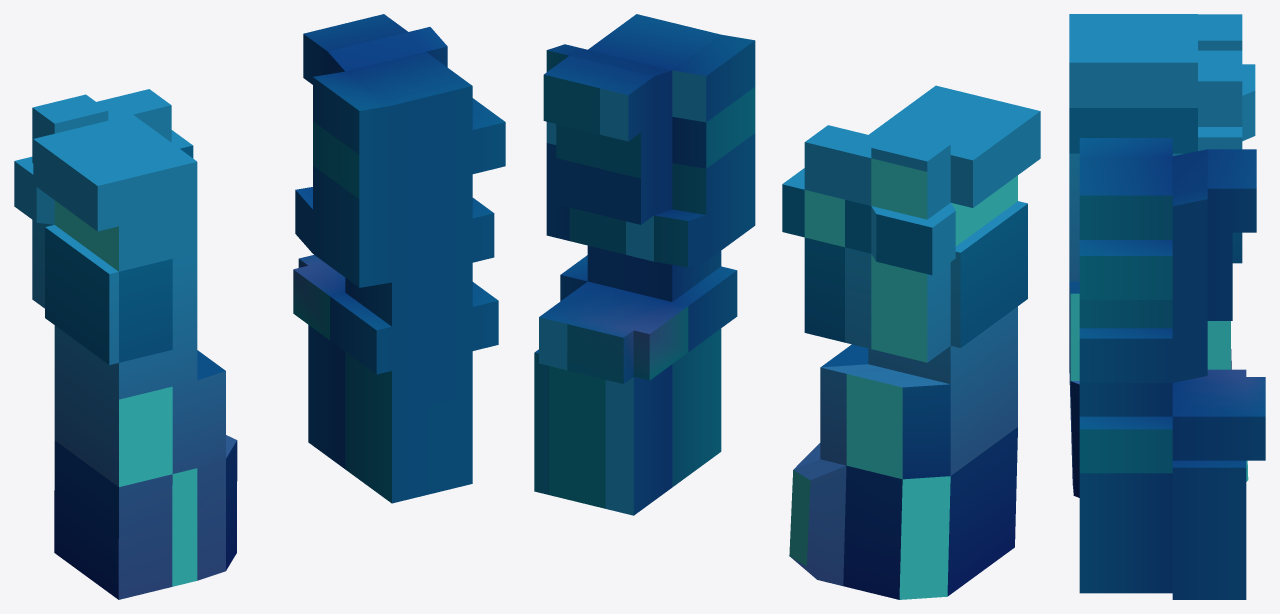
File: синий угол.fbx
3 views of the same model, side by side, from view 1: azimuth 30°, elevation 25°; view 2: azimuth 150°, elevation 25°; view 3: azimuth 270°, elevation 25° (orthographic). The views are drawn at different scales.
Visible parts, largest first — view 1: Cube.004, Cube.003; view 2: Cube.004, Cube.003; view 3: Cube.003, Cube.004.
Part boxes in pixels (x1,y1,x2,y2): Cube.004: (14,89,237,599); Cube.003: (293,14,505,503); Cube.004: (782,85,1040,599); Cube.003: (534,14,755,515); Cube.003: (1079,138,1265,599); Cube.004: (1069,14,1255,497).
Size of the model in its own units: 2149 by 2144 by 885.
